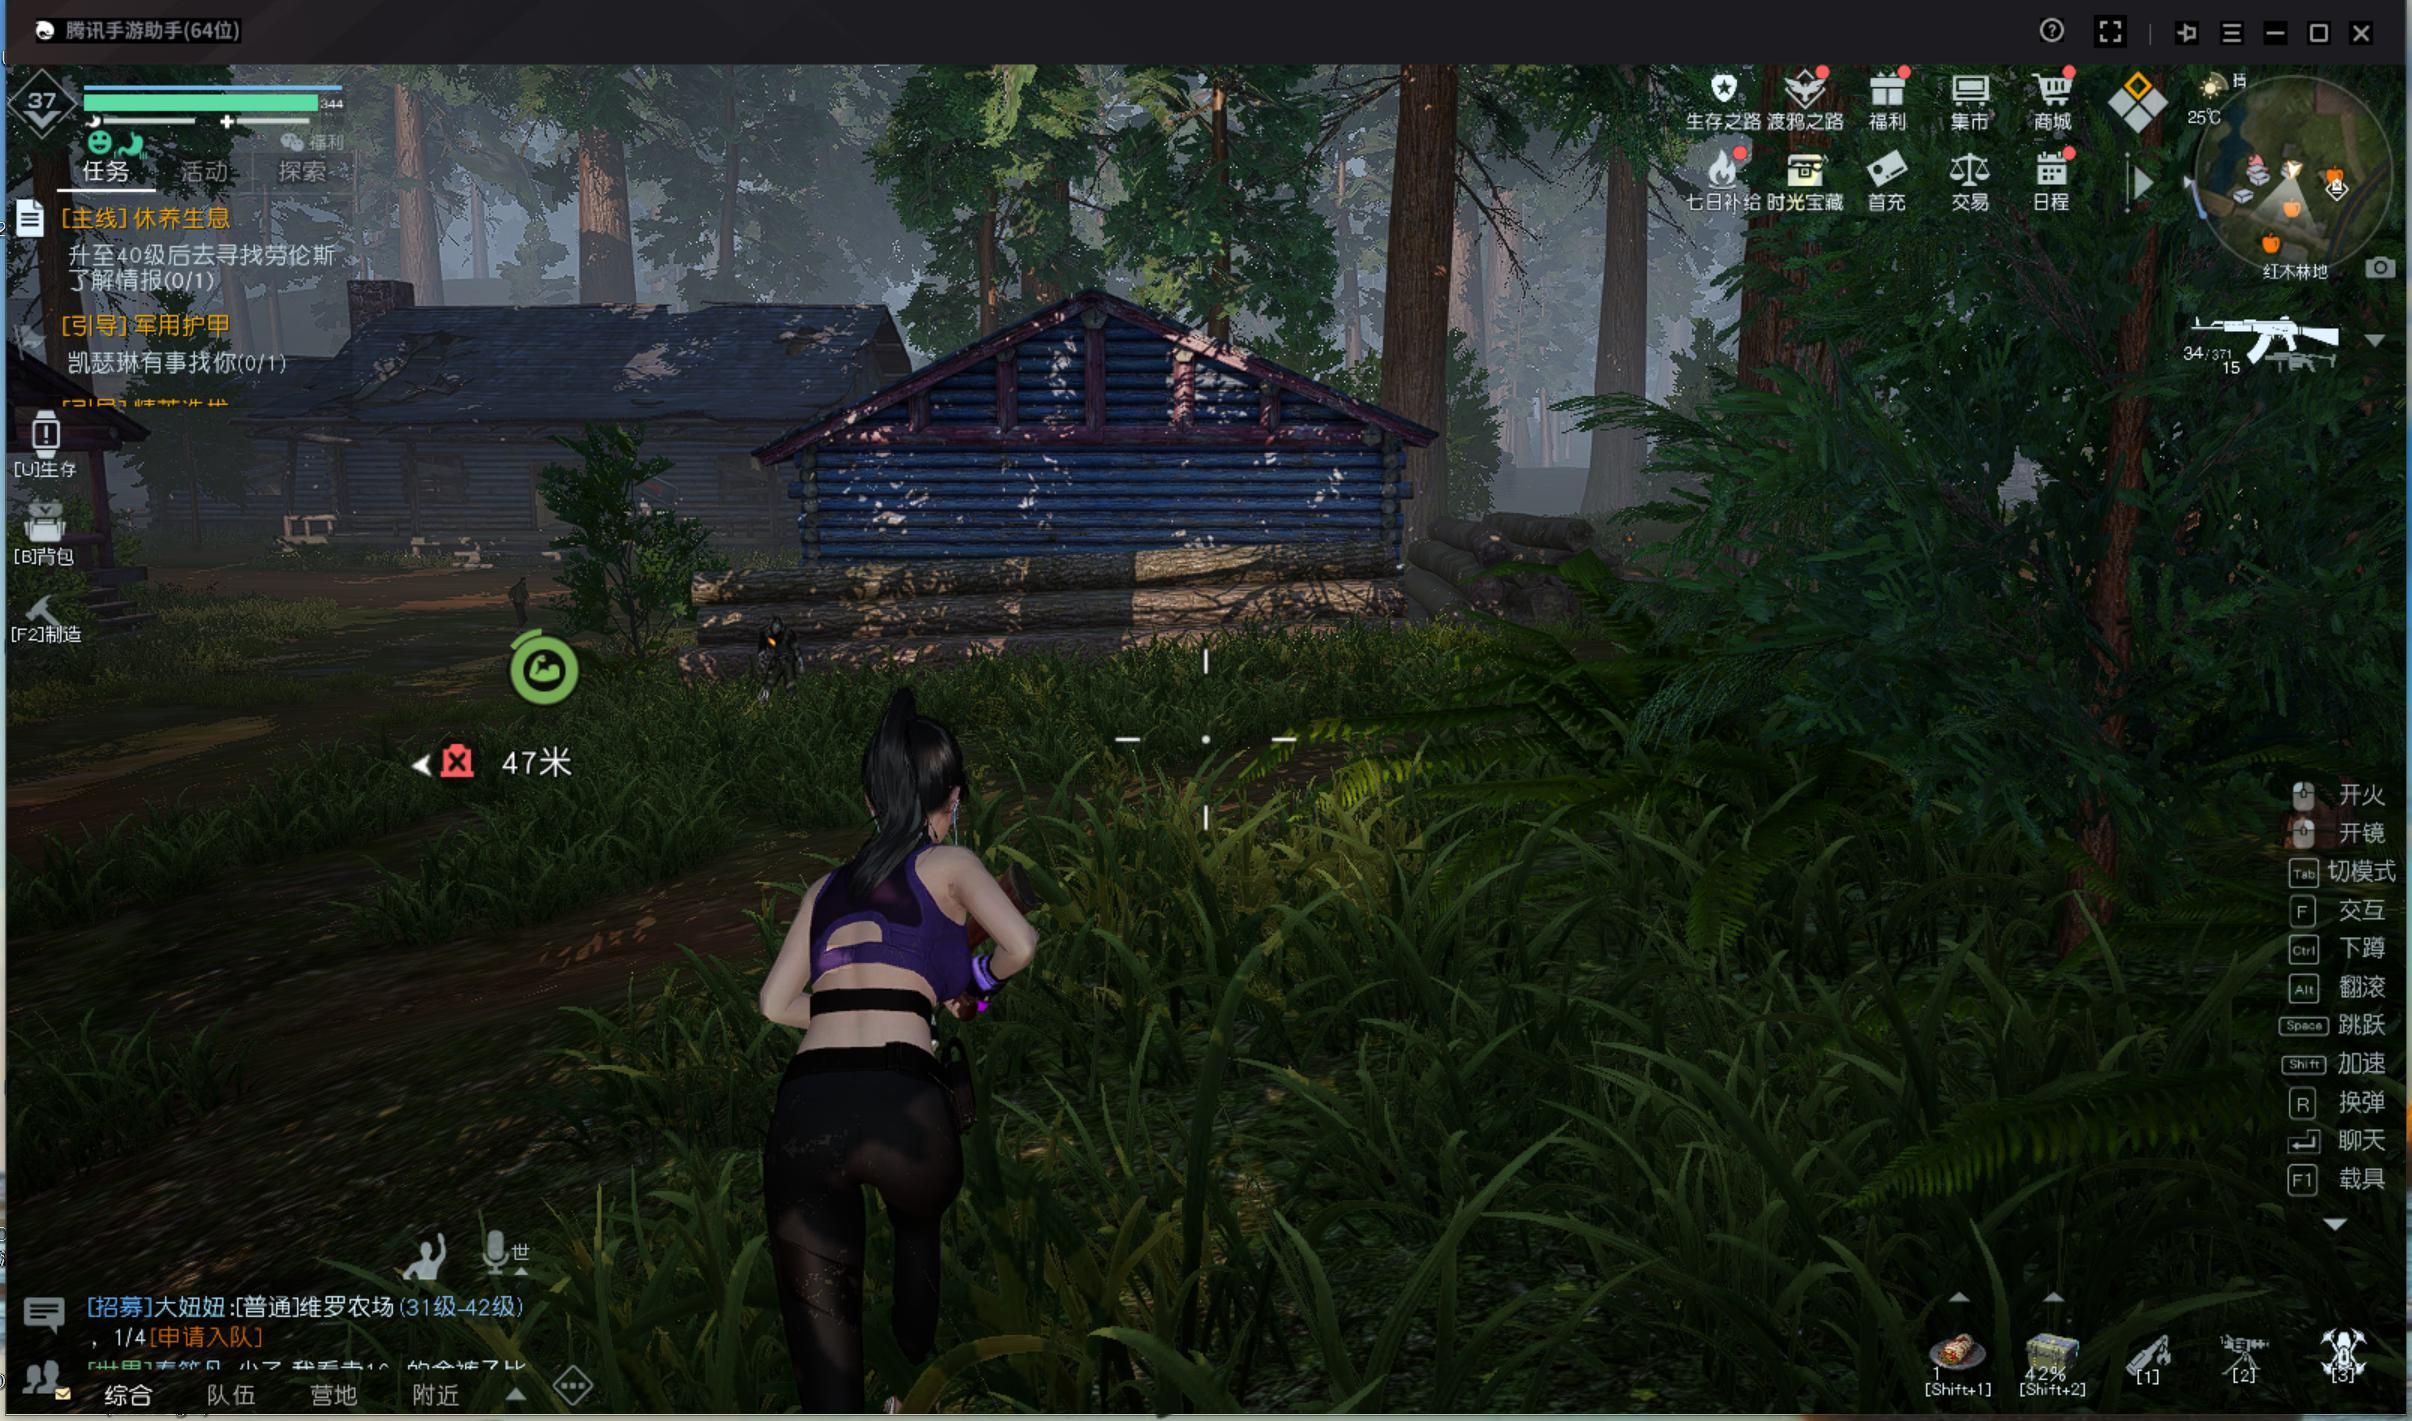tree: (1372, 139, 1460, 568), (1588, 188, 1649, 557)
